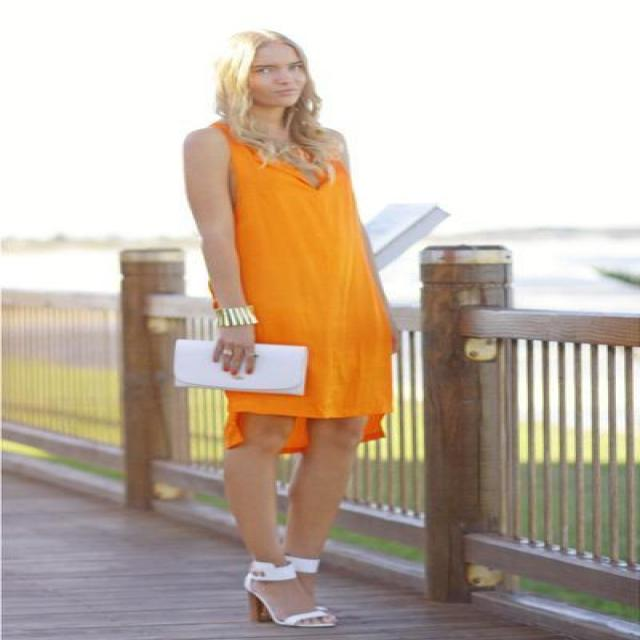bag: (174, 339, 306, 394)
dress: (224, 141, 402, 460)
shoe: (245, 557, 317, 623)
